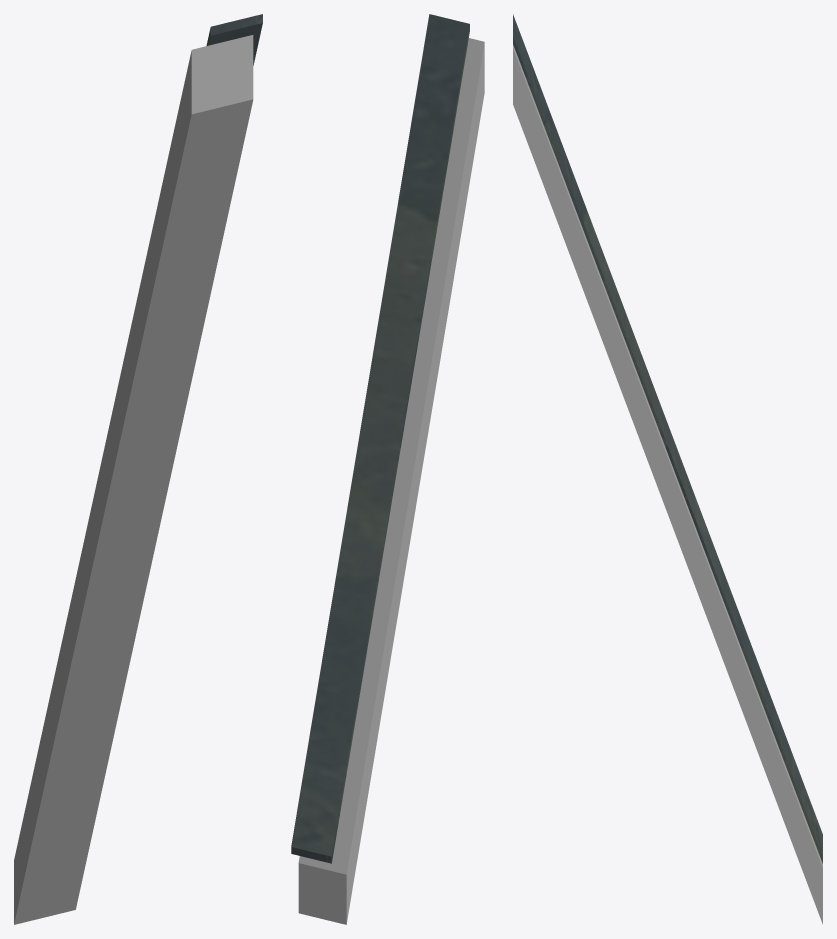
The model's file is CM_SlateRoofKit01_Verge2m_71p1.fbx.
3 views of the same model, side by side, from view 1: azimuth 30°, elevation 25°; view 2: azimuth 150°, elevation 25°; view 3: azimuth 270°, elevation 25° (orthographic). The views are drawn at different scales.
Visible parts, largest first — view 1: CM_SlateRoofKit01_Verge2m_71p1_Timber, CM_SlateRoofKit01_Verge2m_71p1_Slate; view 2: CM_SlateRoofKit01_Verge2m_71p1_Slate, CM_SlateRoofKit01_Verge2m_71p1_Timber; view 3: CM_SlateRoofKit01_Verge2m_71p1_Timber, CM_SlateRoofKit01_Verge2m_71p1_Slate.
Part boxes in pixels (x1,y1,x2,y2): CM_SlateRoofKit01_Verge2m_71p1_Timber: (14, 35, 253, 924); CM_SlateRoofKit01_Verge2m_71p1_Slate: (206, 14, 262, 65); CM_SlateRoofKit01_Verge2m_71p1_Slate: (291, 14, 469, 863); CM_SlateRoofKit01_Verge2m_71p1_Timber: (298, 38, 484, 924); CM_SlateRoofKit01_Verge2m_71p1_Timber: (513, 44, 822, 924); CM_SlateRoofKit01_Verge2m_71p1_Slate: (513, 14, 822, 863).
Bounding box in the file's own units: 0.15 × 2.06 × 0.6478.
